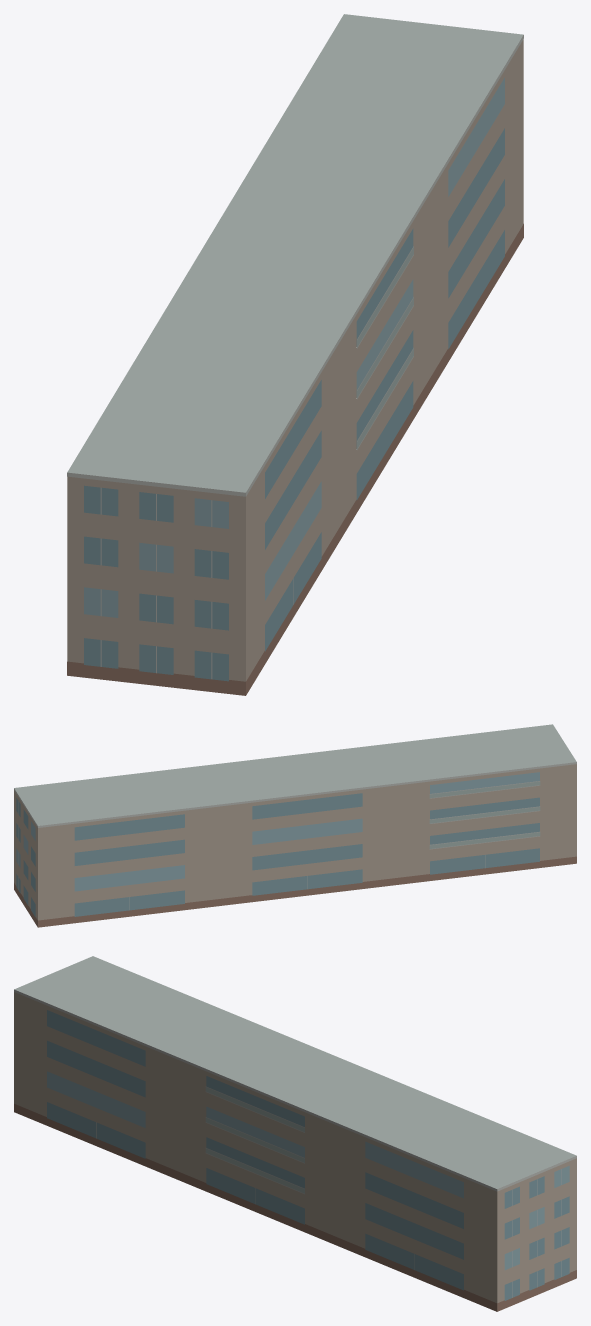
File: survey-upis-32905084.glb
3 views of the same model, one above another, from view 1: azimuth 30°, elevation 25°; view 2: azimuth 150°, elevation 25°; view 3: azimuth 270°, elevation 25° (orthographic). The views are drawn at different scales.
Visible parts, largest first — view 1: survey-upis-32905084.tmp; view 2: survey-upis-32905084.tmp; view 3: survey-upis-32905084.tmp.
Part boxes in pixels (x1,y1,x2,y2): survey-upis-32905084.tmp: [67, 14, 523, 695]; survey-upis-32905084.tmp: [14, 724, 576, 927]; survey-upis-32905084.tmp: [14, 956, 576, 1311].
Bounding box in the file's own units: 49.74 × 12.2 × 50.74.
